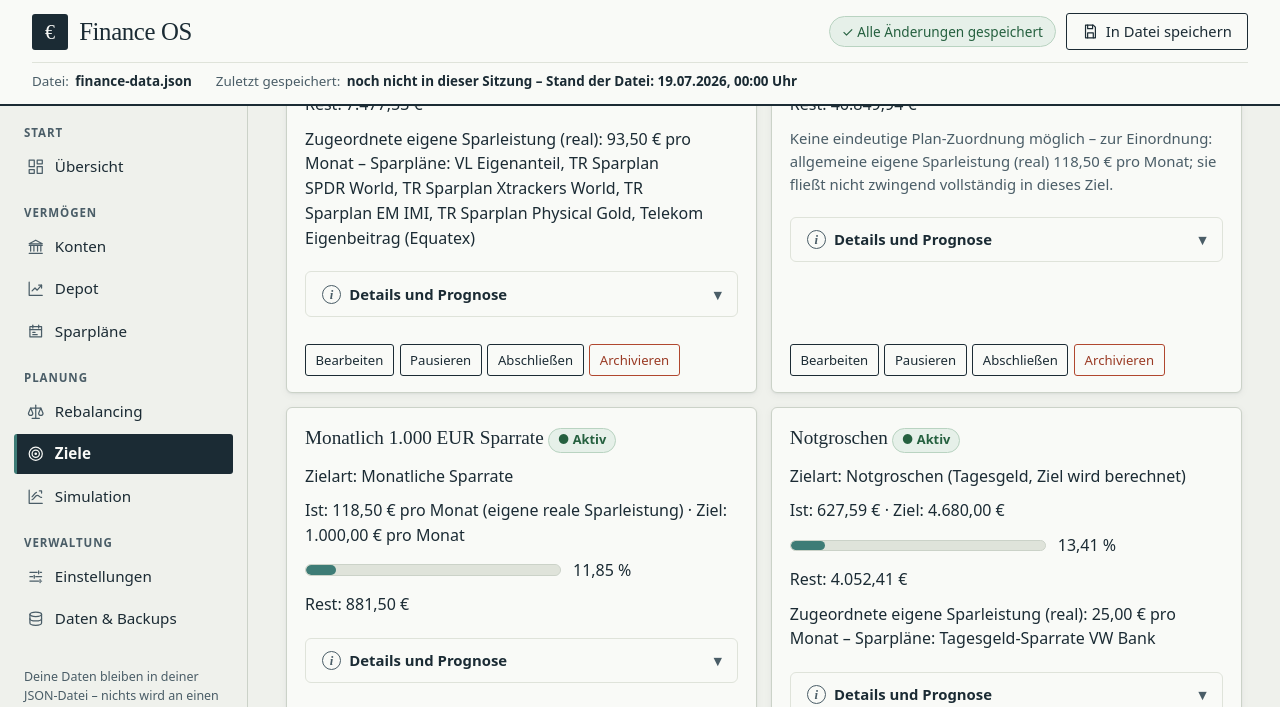
GoalsPage – Statusaktionen (Bestätigung + Dirty-Vergleich) › Pausieren nach Bestätigung: Status „Pausiert“, Dirty-State gesetzt; Reaktivieren erscheint
The width and height of the screenshot is (1280, 707).
(page scrolled)
Click the button with aria-label "Ziel „10.000 EUR Depot“ pausieren".
click(441, 360)  # box left=400, top=344, right=482, bottom=376
(page scrolled)
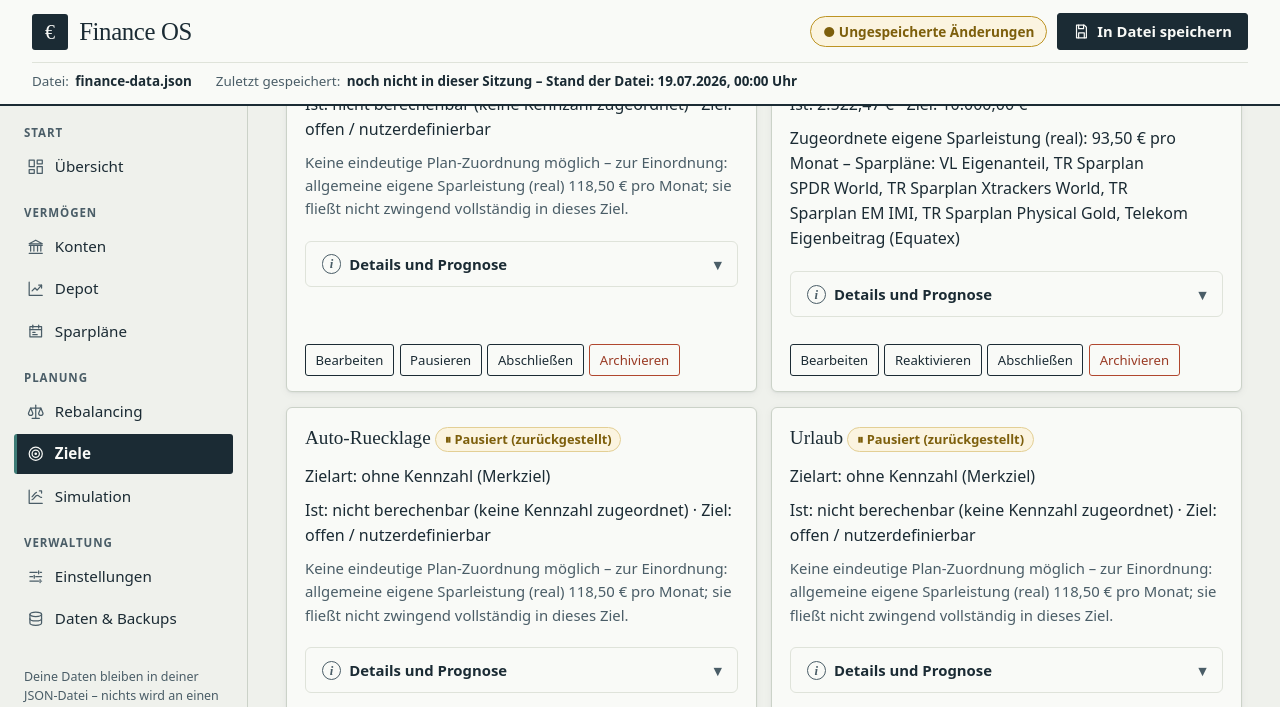
expect the text "⏸ Pausiert (zurückgestellt)" next to "10.000 EUR Depot" is shown: met, box left=942, top=21, right=1128, bottom=46
expect the button with aria-label "Ziel „10.000 EUR Depot“ reaktivieren" is shown: met, box left=884, top=344, right=982, bottom=376
